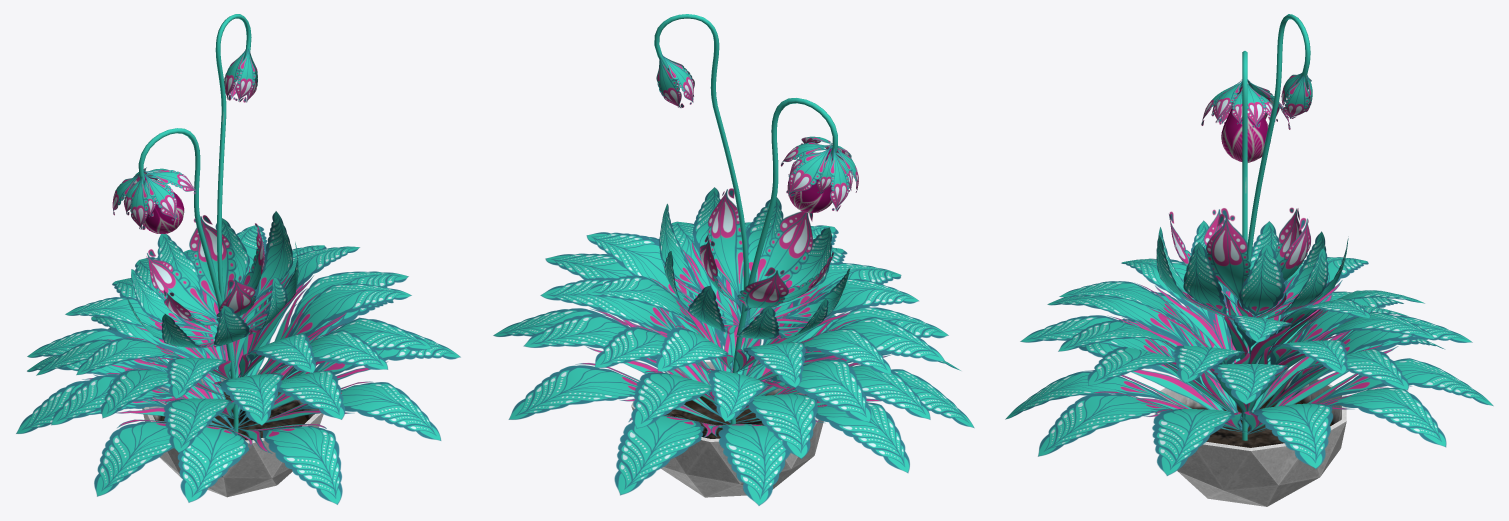
File: flor-mobile.glb
The picture shows the model from 3 angles, left to right: view 1: azimuth 30°, elevation 25°; view 2: azimuth 150°, elevation 25°; view 3: azimuth 270°, elevation 25°; orthographic projection. The views are drawn at different scales.
Visible parts, largest first — view 1: Maceta, Hoja-2.018, Hoja-2.011, Hoja-2.016, Hoja-2.017, Hoja-2.044, Hoja-2.032, Hoja-2.027, Hoja-2.025, Hoja-2.002, Hoja-2.043, Hoja-1.014 (+38 smaller); view 2: Maceta, Hoja-2.015, Hoja-2.014, Hoja-2.019, Hoja-2.005, Hoja-2.003, Hoja-2.030, Hoja-2.020, Hoja-2.045, Hoja-2.029, Hoja-1.015, Hoja-2.004 (+36 smaller); view 3: Maceta, Hoja-2.011, Hoja-2.013, Hoja-2.012, Hoja-2.014, Hoja-2.018, Hoja-2.015, Hoja-2.002, Hoja-2.036, Hoja-1.016, Hoja-2.026, Hoja-2.028 (+30 smaller).
Boxes of the visible parts, left/top/right/bottom form: Maceta: left=142, top=369, right=323, bottom=497; Hoja-2.018: left=238, top=424, right=342, bottom=504; Hoja-2.011: left=238, top=381, right=441, bottom=440; Hoja-2.016: left=94, top=419, right=173, bottom=496; Hoja-2.017: left=177, top=425, right=252, bottom=502; Hoja-2.044: left=258, top=283, right=411, bottom=374; Hoja-2.032: left=163, top=398, right=235, bottom=452; Hoja-2.027: left=238, top=271, right=408, bottom=416; Hoja-2.025: left=238, top=370, right=345, bottom=419; Hoja-2.002: left=213, top=373, right=282, bottom=425; Hoja-2.043: left=271, top=330, right=387, bottom=373; Hoja-1.014: left=189, top=215, right=236, bottom=307; Maceta: left=631, top=361, right=823, bottom=497; Hoja-2.015: left=614, top=415, right=722, bottom=495; Hoja-2.014: left=508, top=363, right=727, bottom=424; Hoja-2.019: left=711, top=424, right=790, bottom=505; Hoja-2.005: left=764, top=357, right=871, bottom=422; Hoja-2.003: left=586, top=232, right=732, bottom=371; Hoja-2.030: left=740, top=394, right=817, bottom=458; Hoja-2.020: left=735, top=401, right=909, bottom=472; Hoja-2.045: left=540, top=277, right=711, bottom=370; Hoja-2.029: left=631, top=371, right=717, bottom=428; Hoja-1.015: left=754, top=211, right=813, bottom=282; Hoja-2.004: left=758, top=317, right=944, bottom=380; Maceta: left=1154, top=369, right=1346, bottom=506; Hoja-2.011: left=1038, top=391, right=1244, bottom=456; Hoja-2.013: left=1243, top=403, right=1333, bottom=468; Hoja-2.012: left=1152, top=409, right=1246, bottom=475; Hoja-2.014: left=1248, top=387, right=1446, bottom=447; Hoja-2.018: left=1005, top=370, right=1243, bottom=431; Hoja-2.015: left=1247, top=358, right=1493, bottom=434; Hoja-2.002: left=1047, top=296, right=1218, bottom=380; Hoja-2.036: left=1237, top=243, right=1286, bottom=317; Hoja-1.016: left=1206, top=214, right=1250, bottom=309; Hoja-2.026: left=1087, top=347, right=1245, bottom=421; Hoja-2.028: left=1264, top=348, right=1408, bottom=407.
Size of the model in its own units: 2006 by 2201 by 2044.
Materials: 1 (1 with a texture image).
